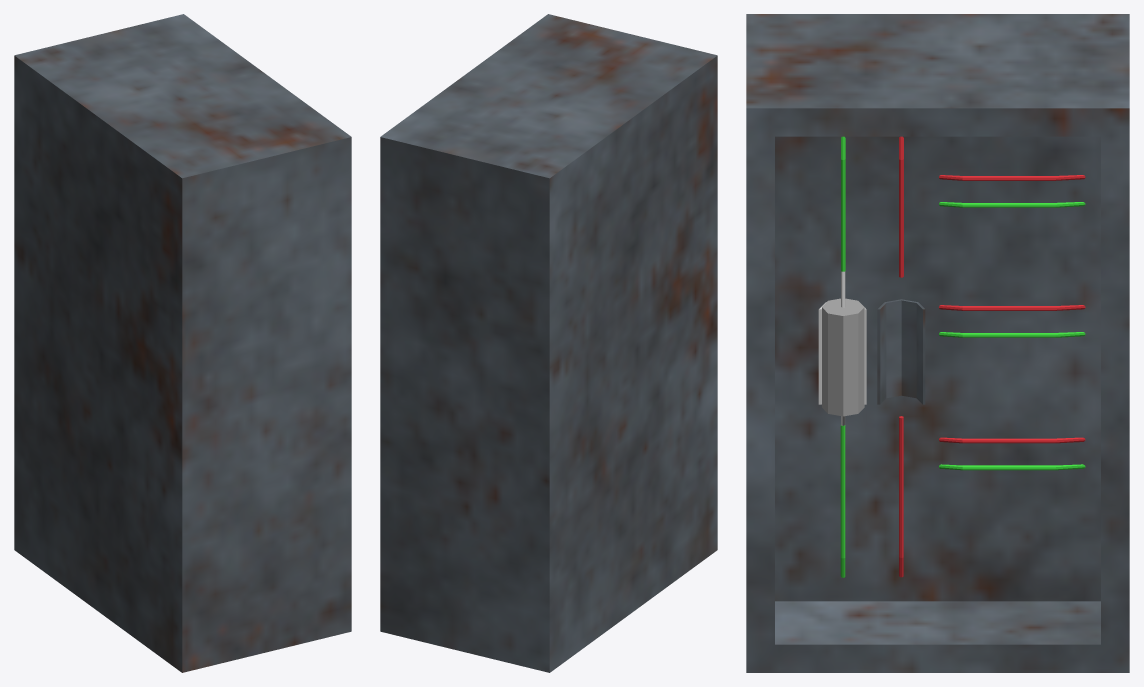
Rendered from circuitBox.fbx.
3 renders of one model, left to right at view 1: azimuth 30°, elevation 25°; view 2: azimuth 150°, elevation 25°; view 3: azimuth 270°, elevation 25°, orthographic. The views are drawn at different scales.
Parts seen in each view (by area): view 1: Cube; view 2: Cube; view 3: Cube, Cylinder.006, Cube.002, Cylinder.004, Cylinder.013, Cylinder.014, Cylinder.003, Cylinder.009, Cylinder.010, Cylinder.012, Cylinder.011, Cylinder.008 (+2 smaller).
Part boxes in pixels (x1,y1,x2,y2): Cube: [14, 14, 351, 672]; Cube: [380, 14, 717, 672]; Cube: [746, 14, 1129, 672]; Cylinder.006: [822, 298, 864, 416]; Cube.002: [877, 299, 925, 404]; Cylinder.004: [840, 425, 845, 577]; Cylinder.013: [939, 437, 1085, 443]; Cylinder.014: [939, 464, 1085, 470]; Cylinder.003: [899, 416, 903, 577]; Cylinder.009: [939, 175, 1085, 180]; Cylinder.010: [939, 202, 1085, 207]; Cylinder.012: [939, 305, 1085, 310]; Cylinder.011: [939, 332, 1085, 337]; Cylinder.008: [899, 136, 903, 277].
Size of the model in its own units: 171 by 477 by 294.
